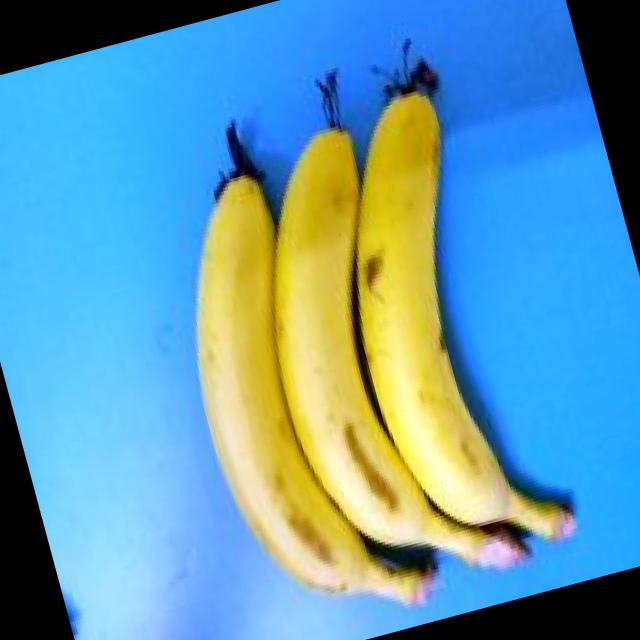banana: (95, 10, 502, 529)
